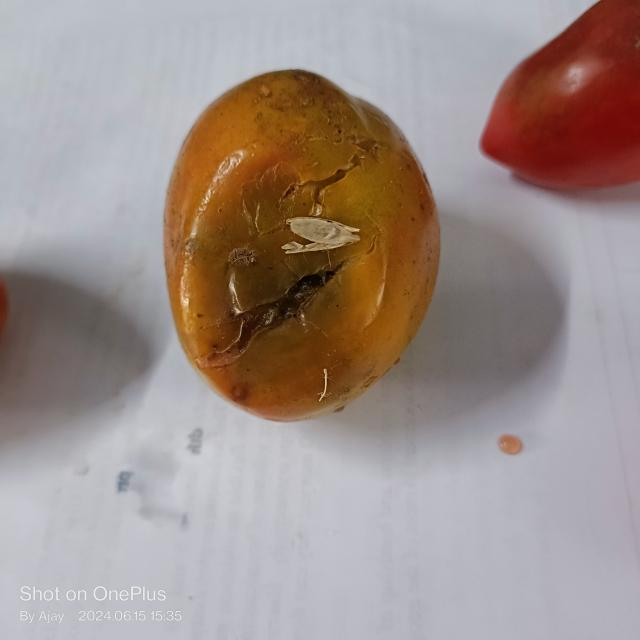Botrytis: (184, 150, 380, 392)
